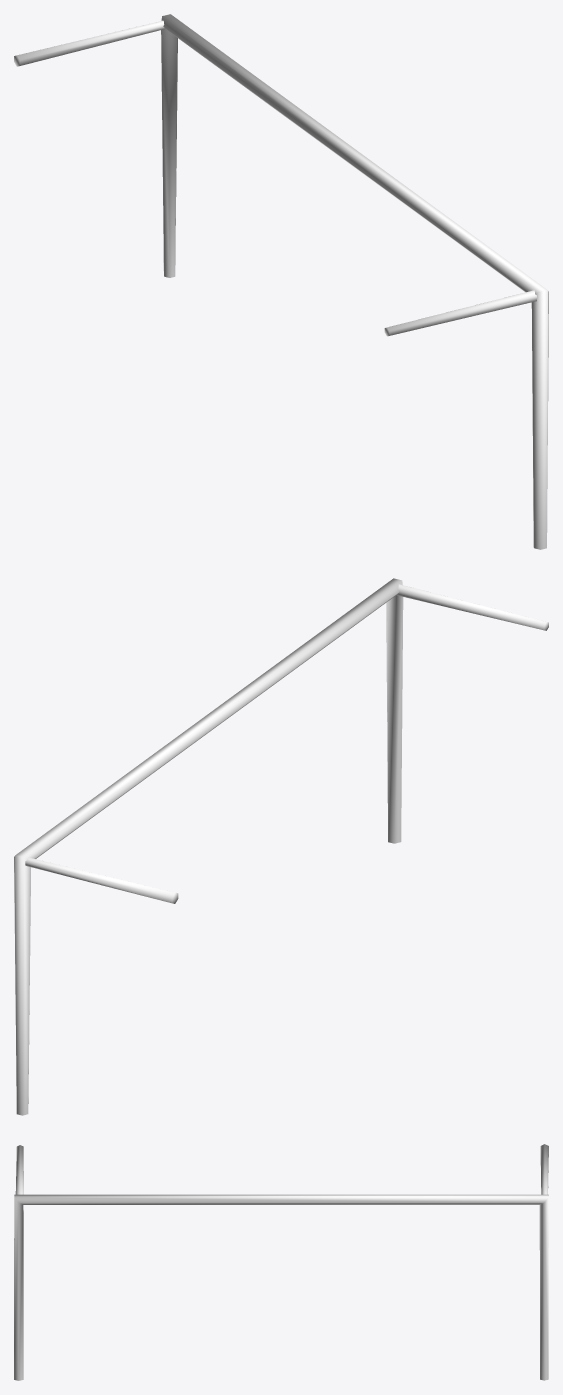
File: football_court01_door.fbx
The picture shows the model from 3 angles, top to bottom: view 1: azimuth 30°, elevation 25°; view 2: azimuth 150°, elevation 25°; view 3: azimuth 270°, elevation 25°; orthographic projection. The views are drawn at different scales.
Parts seen in each view (by area): view 1: door; view 2: door; view 3: door.
Part boxes in pixels (box(x1,y1,x2,y2)): door: box(14, 14, 548, 549); door: box(14, 578, 548, 1115); door: box(14, 1144, 548, 1380).
Size of the model in its own units: 185 by 283 by 751.
